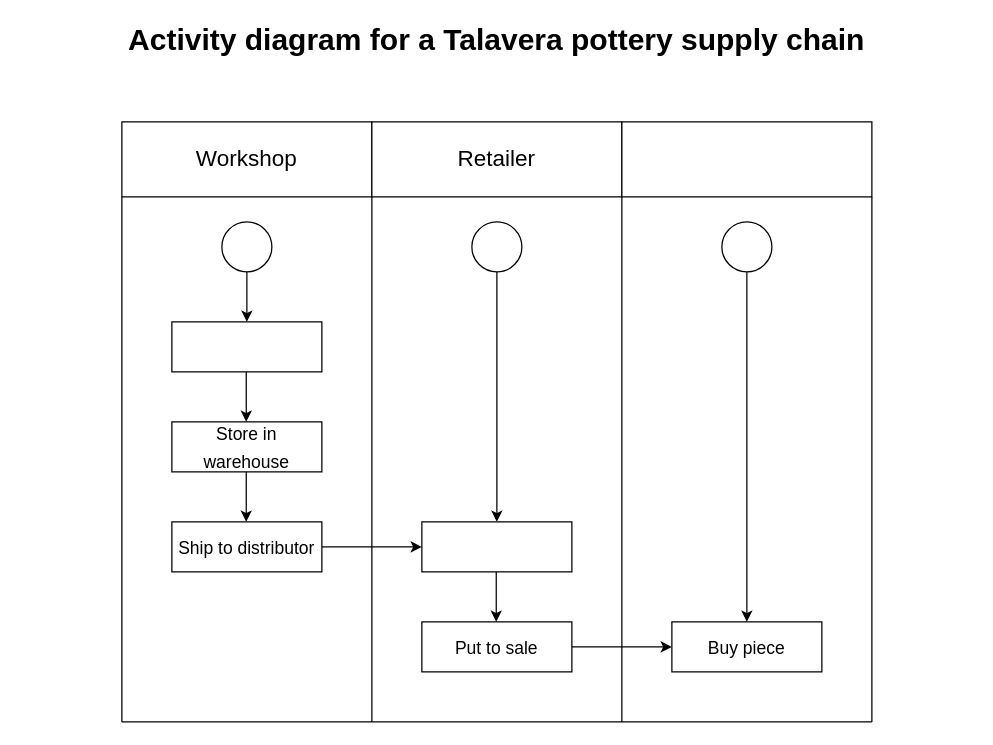
Image size: 993x745. Some labels were removed from this diagram. The centre of each missing label's shape, as x and y in pixels:
"Consumer" goes at point (746, 159).
"Make piece" goes at point (246, 346).
"Receive shipment" goes at point (496, 546).
